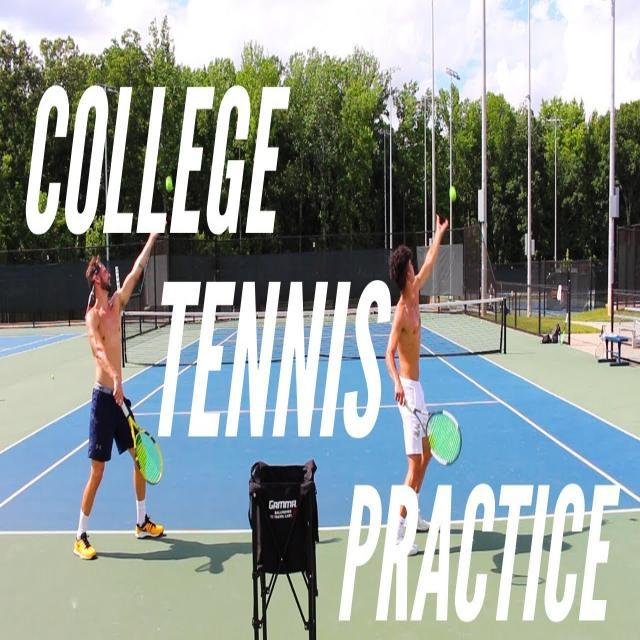net: (116, 288, 514, 361)
player: (60, 170, 170, 563), (379, 186, 461, 548)
